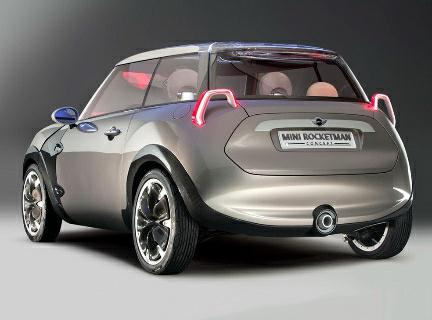MINI-ROCKETMAN: (15, 49, 420, 274)
